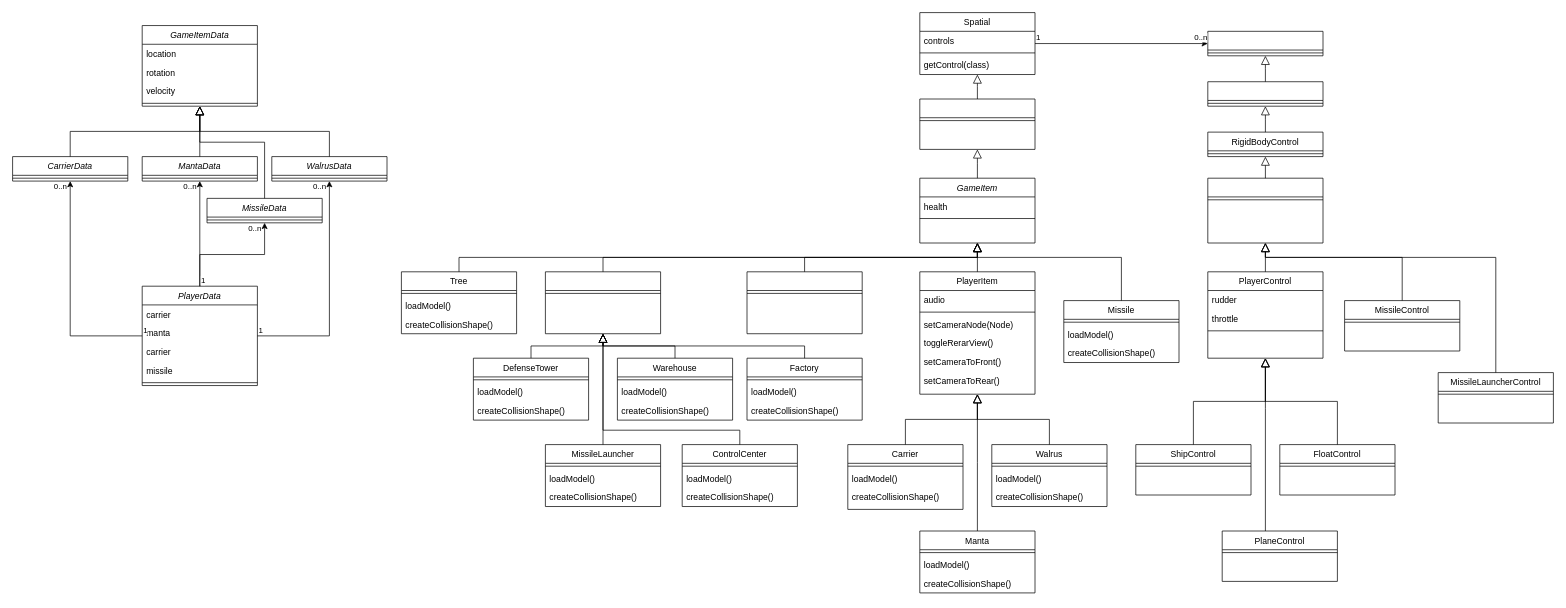
The diagram is 1566 pixels wide and 608 high, and some of its shapes have lost their labels. The centre of each missing label's shape, as x and y in pixels:
"BaseControl" belongs at pixel 1265 210.
"Building" belongs at pixel 603 302.
"Control" belongs at pixel 1265 43.
"Node" belongs at pixel 977 123.
"PhysicsControl" belongs at pixel 1265 93.
"SupplyDrone" belongs at pixel 804 302.
